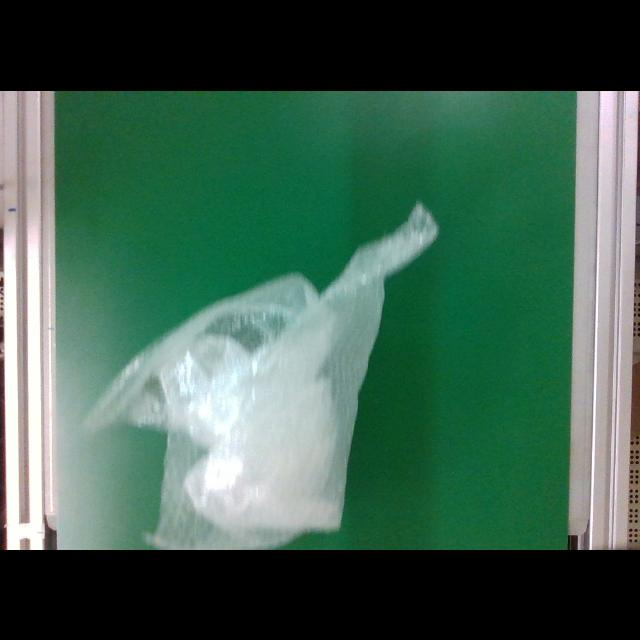scrap_plastic: (85, 186, 438, 550)
